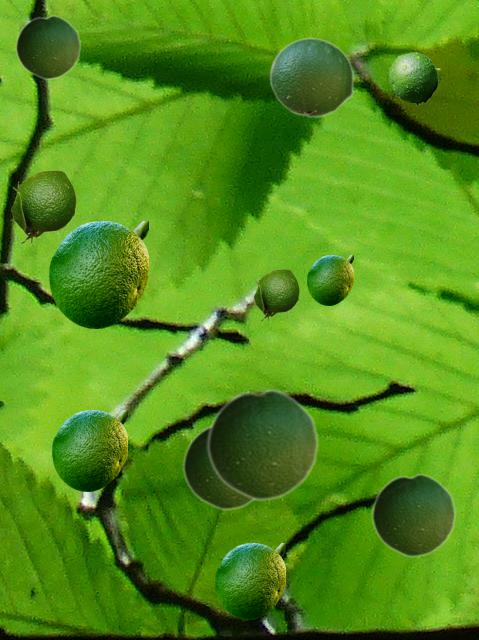dalandan: (206, 387, 318, 501), (49, 221, 147, 327), (371, 473, 455, 557), (269, 37, 353, 117), (182, 424, 253, 510), (52, 410, 126, 490), (215, 543, 284, 618), (10, 170, 75, 243), (15, 14, 80, 79), (389, 52, 439, 104), (253, 269, 298, 320), (307, 255, 352, 304)
